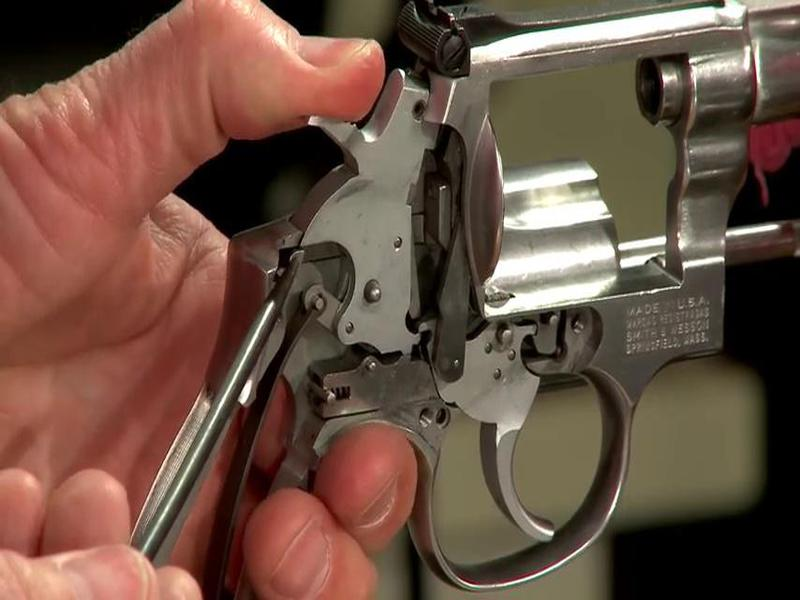Revolver: (136, 7, 800, 555)
